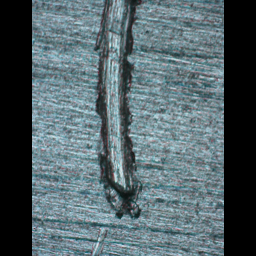d: (90, 0, 147, 226)
